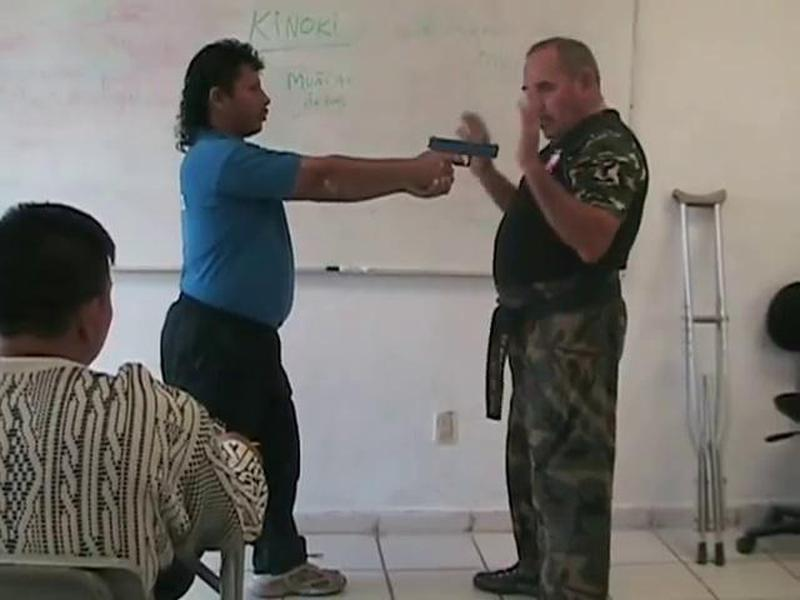Pistola: (422, 131, 504, 182)
